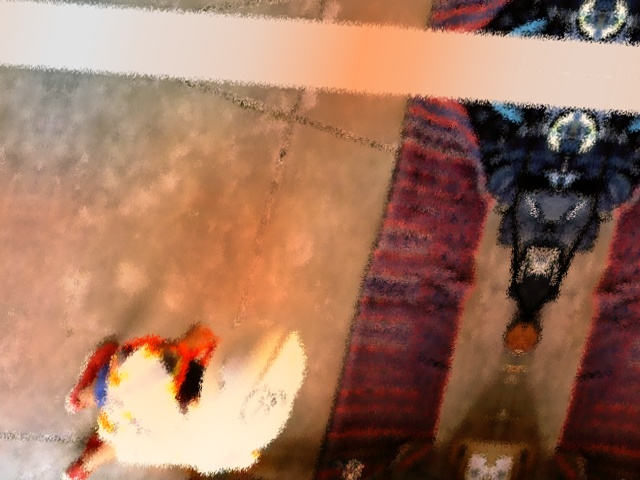eight: (236, 384, 291, 429)
